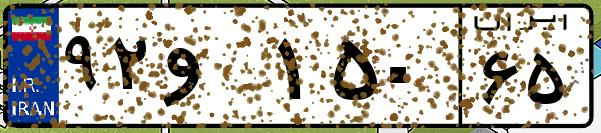0: (385, 28, 445, 110)
1: (270, 28, 330, 110)
2: (110, 28, 158, 98)
5: (330, 28, 385, 110), (525, 38, 570, 115)
6: (475, 38, 525, 113)
9: (57, 26, 110, 100)
و: (158, 20, 270, 120)
